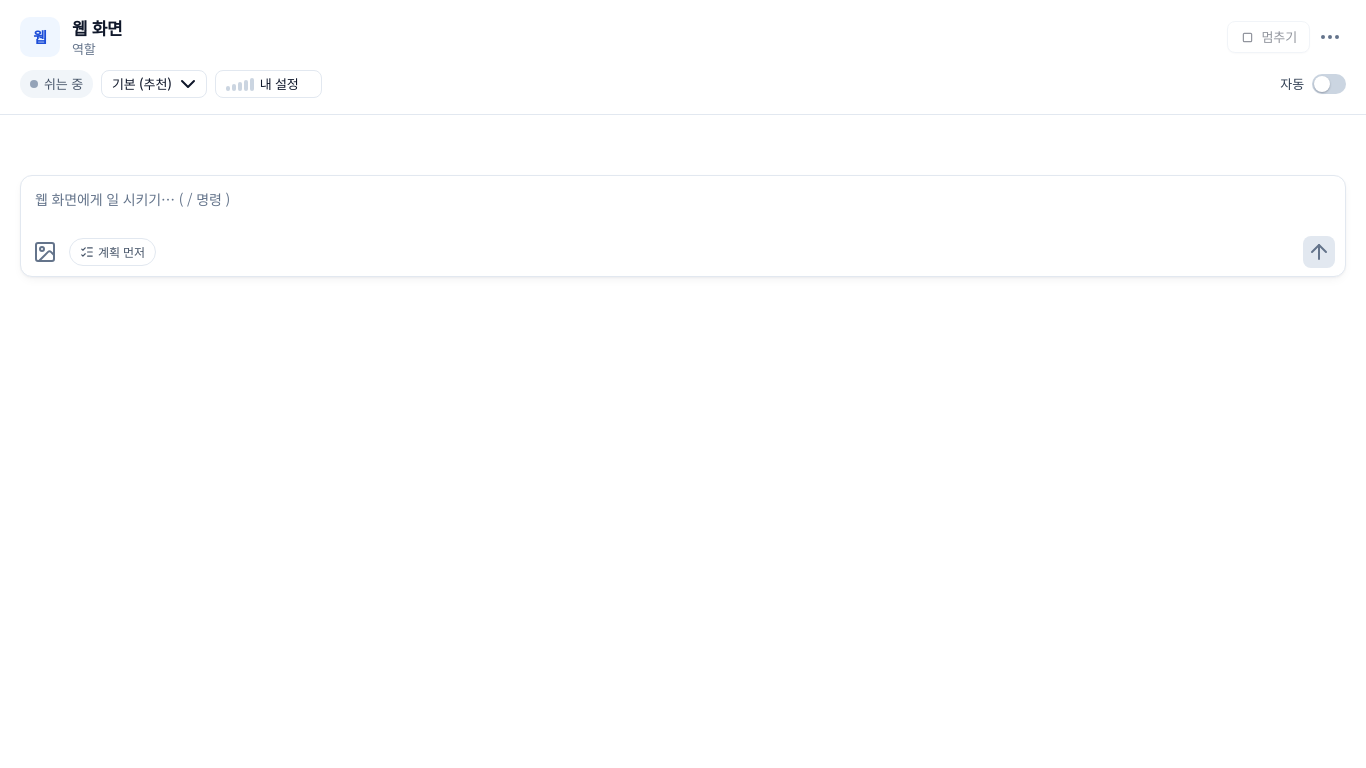
Test: AlwaysAllowDialog › 되돌리기 → revokeAlwaysAllow 후 그 줄이 사라지고 초점은 다음 줄의 되돌리기 — 마지막이면 [닫기]
This screenshot has width=1366, height=768.
Click the button named "메뉴": (1330, 37) [1314,21,1346,53]
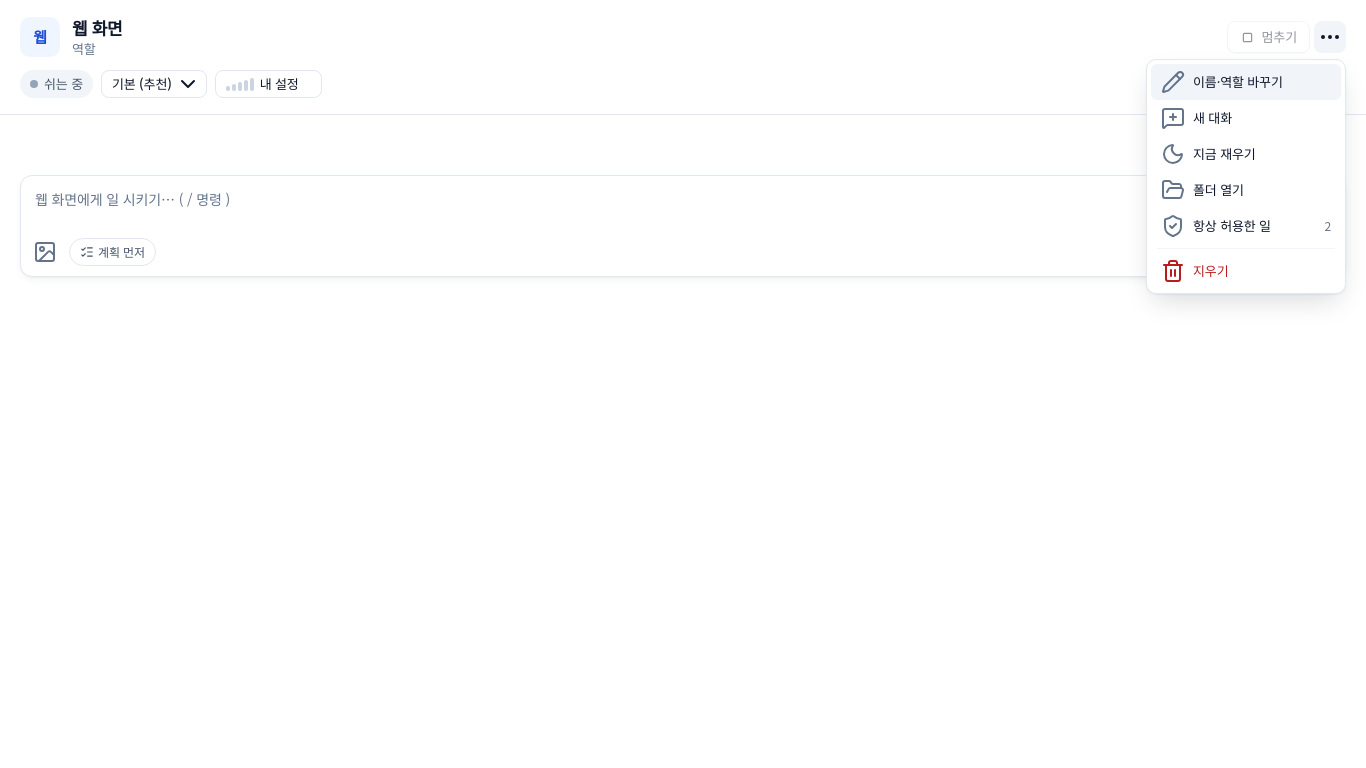
Click the menu item "항상 허용한 일 2": (1246, 226) [1151,208,1341,244]
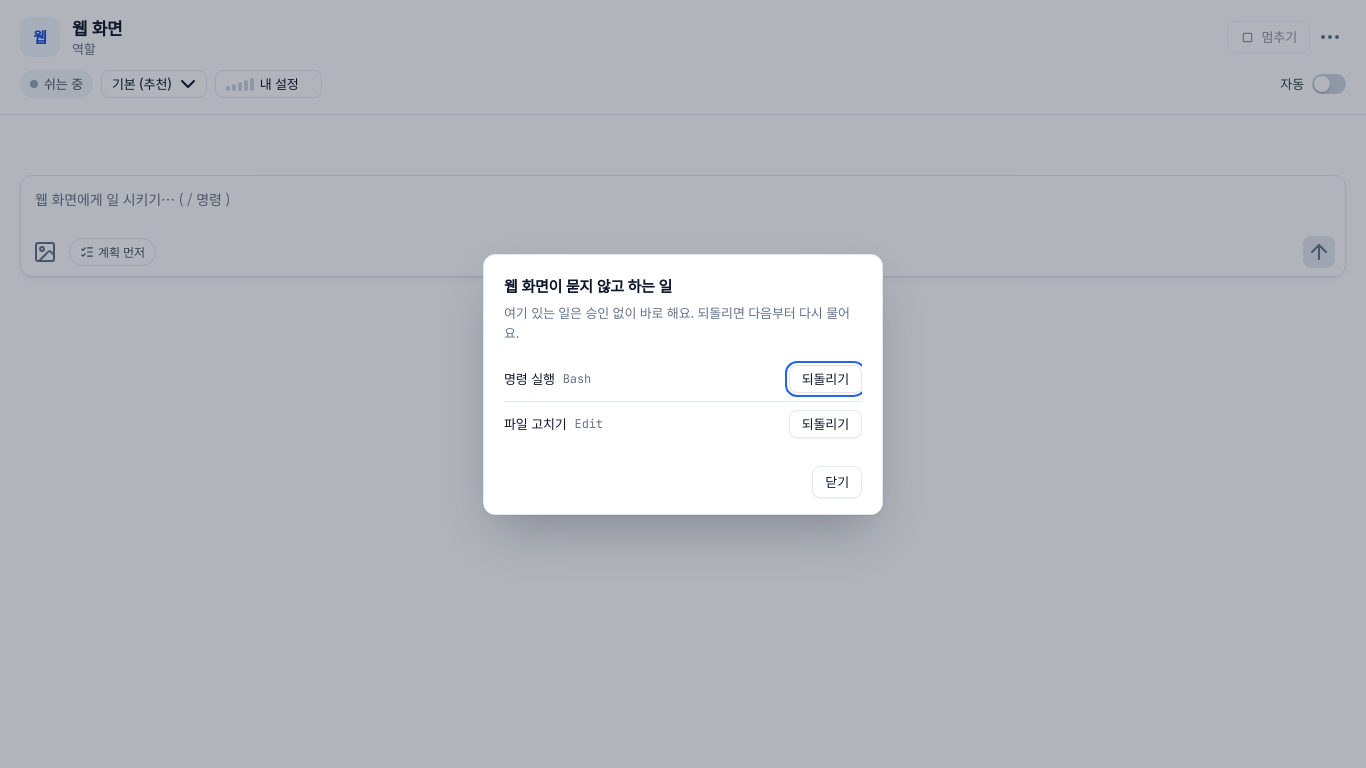
Click the button "되돌리기" in the row of "명령 실행": (825, 378) [789,364,862,392]
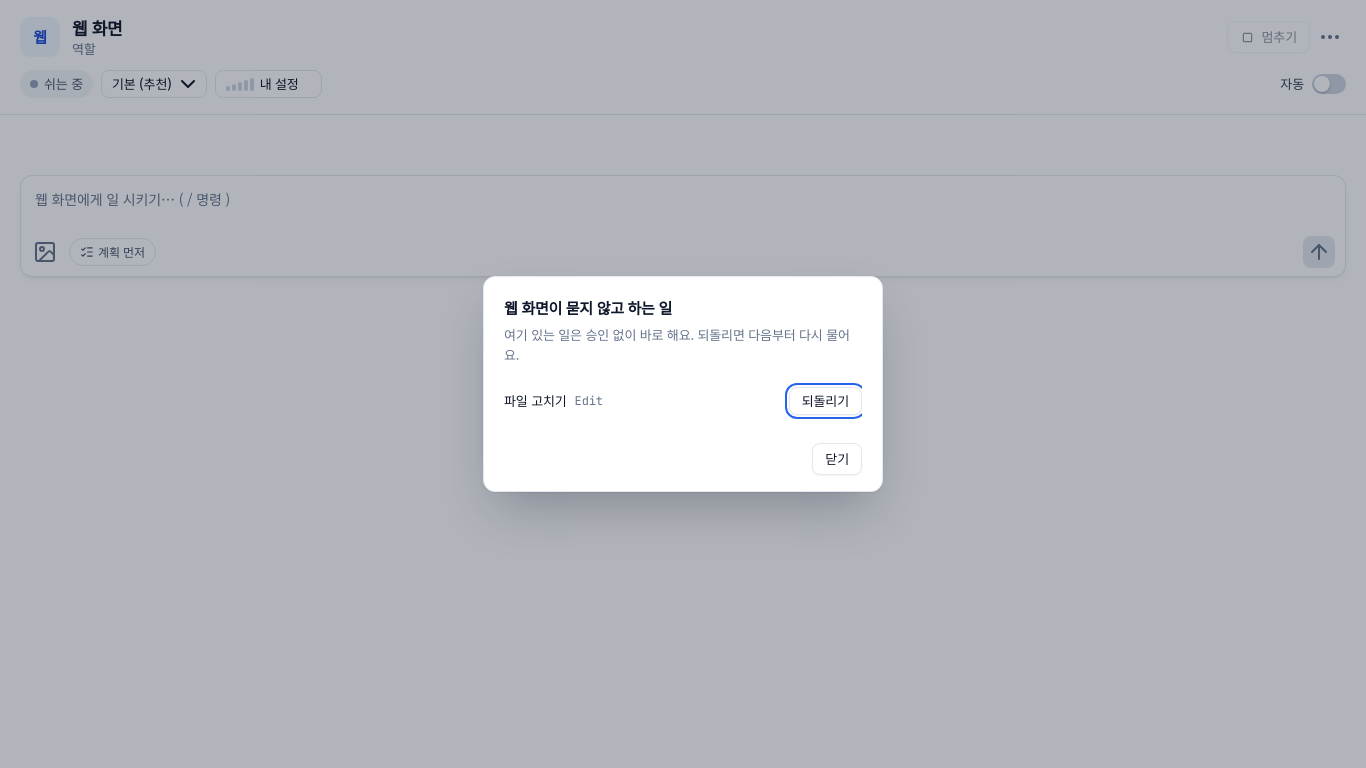
Expected: the dialog shows "파일 고치기", [504,391,567,410]
Expected: the text "Bash" is gone
Click the button "되돌리기": (825, 401) [789,387,862,415]
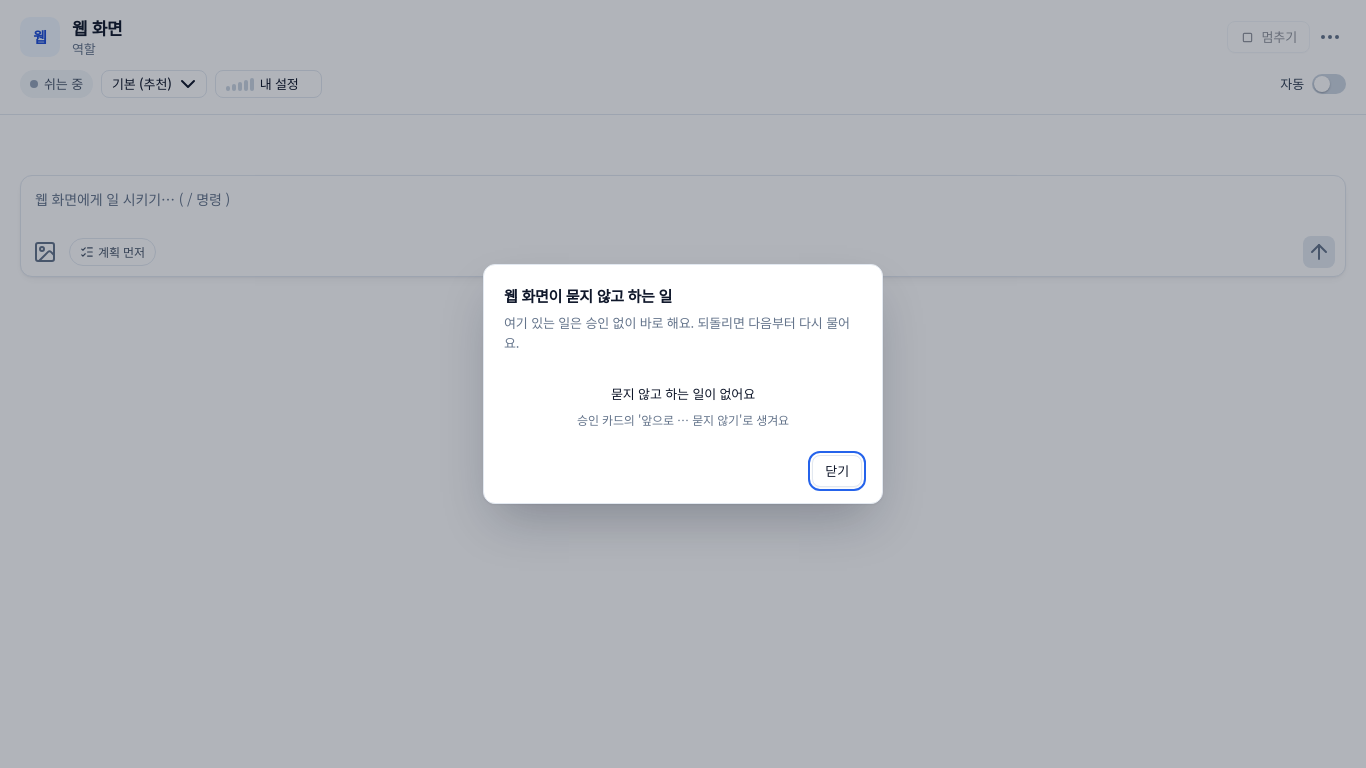
Expected: the dialog shows "묻지 않고 하는 일이 없어요", [611,384,755,403]
